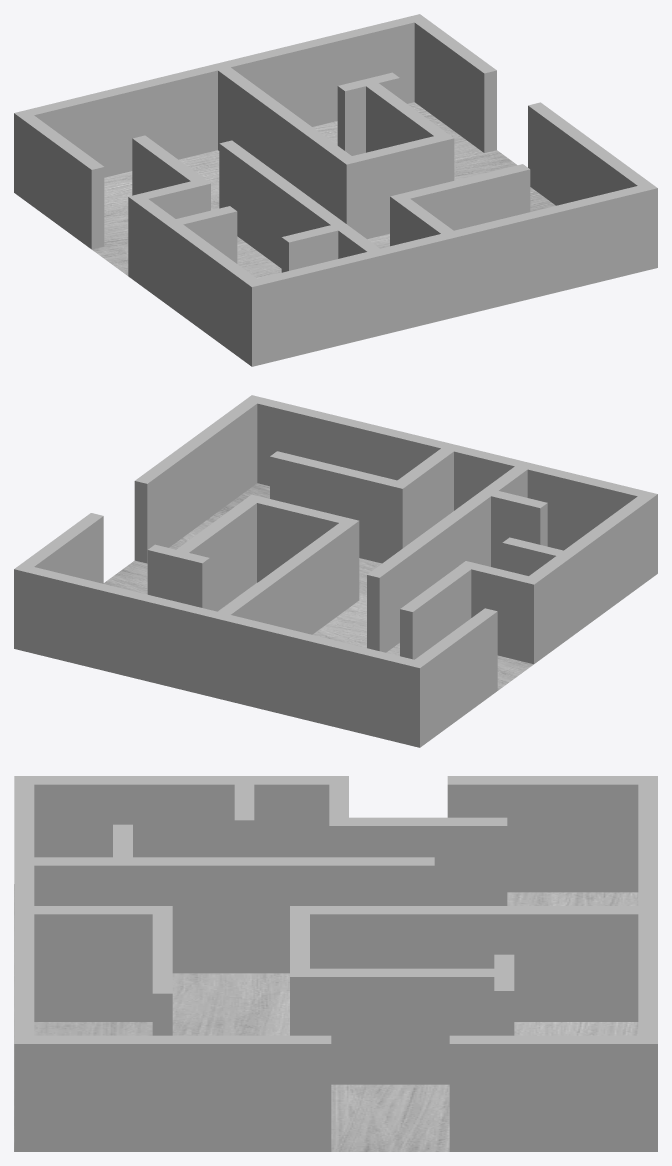
File: Laberinto.fbx
3 views of the same model, one above another, from view 1: azimuth 30°, elevation 25°; view 2: azimuth 150°, elevation 25°; view 3: azimuth 270°, elevation 25° (orthographic). The views are drawn at different scales.
Parts seen in each view (by area): view 1: pCube18, pPlane1; view 2: pCube18, pPlane1; view 3: pCube18, pPlane1.
Part boxes in pixels (box(x1,y1,x2,y2)): pCube18: box(14, 14, 657, 366); pPlane1: box(92, 102, 656, 366); pCube18: box(14, 395, 657, 747); pPlane1: box(103, 483, 533, 690); pCube18: box(14, 776, 657, 1151); pPlane1: box(14, 884, 638, 1151).
Bounding box in the file's own units: 16 × 3 × 16.25.
